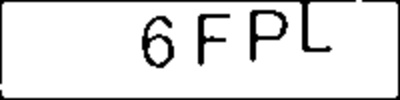6: (137, 13, 178, 70)
F: (193, 11, 231, 67)
L: (297, 1, 333, 58)
P: (246, 7, 291, 66)
